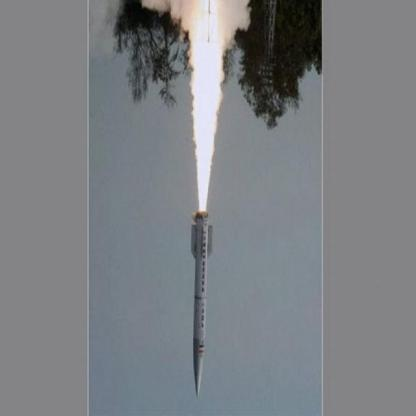MIL_TBM: (187, 202, 219, 402)
